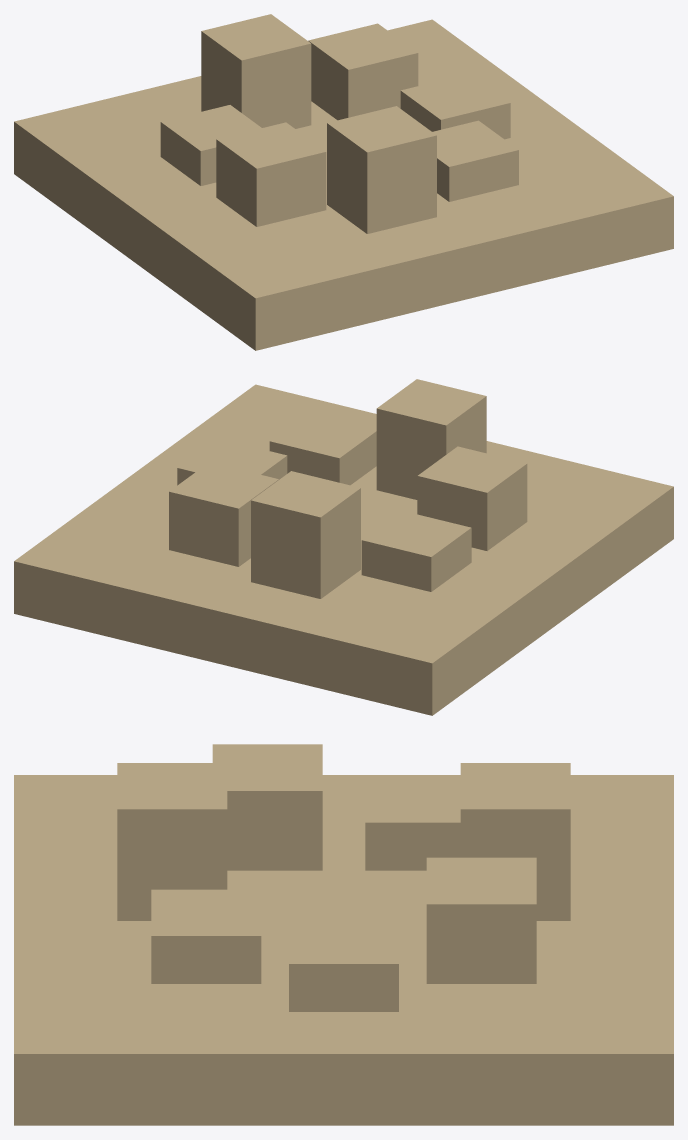
File: semi_desert.glb
3 renders of one model, top to bottom at view 1: azimuth 30°, elevation 25°; view 2: azimuth 150°, elevation 25°; view 3: azimuth 270°, elevation 25°, orthographic. The views are drawn at different scales.
Visible parts, largest first — view 1: semi_desert base, semi_desert relief.005, semi_desert relief.002, semi_desert relief.004, semi_desert relief.001, semi_desert relief.006, semi_desert relief, semi_desert relief.003; view 2: semi_desert base, semi_desert relief.002, semi_desert relief.005, semi_desert relief.004, semi_desert relief.001, semi_desert relief.003, semi_desert relief.006, semi_desert relief; view 3: semi_desert base, semi_desert relief.005, semi_desert relief.001, semi_desert relief.002, semi_desert relief.004, semi_desert relief.006, semi_desert relief, semi_desert relief.003.
Boxes of the visible parts, <box> form: semi_desert base: <box>14,19,673,350</box>; semi_desert relief.005: <box>327,106,436,233</box>; semi_desert relief.002: <box>201,14,311,128</box>; semi_desert relief.004: <box>216,122,326,226</box>; semi_desert relief.001: <box>308,23,418,120</box>; semi_desert relief.006: <box>432,120,518,201</box>; semi_desert relief: <box>400,73,510,139</box>; semi_desert relief.003: <box>160,105,261,185</box>; semi_desert base: <box>14,384,673,715</box>; semi_desert relief.002: <box>251,471,360,598</box>; semi_desert relief.005: <box>376,379,486,499</box>; semi_desert relief.004: <box>417,446,527,550</box>; semi_desert relief.001: <box>169,462,278,566</box>; semi_desert relief.003: <box>361,510,471,591</box>; semi_desert relief.006: <box>269,412,376,485</box>; semi_desert relief: <box>177,438,287,485</box>; semi_desert base: <box>14,775,673,1125</box>; semi_desert relief.005: <box>117,763,227,920</box>; semi_desert relief.001: <box>426,857,536,983</box>; semi_desert relief.002: <box>460,763,570,920</box>; semi_desert relief.004: <box>212,744,322,870</box>; semi_desert relief.006: <box>151,889,261,983</box>; semi_desert relief: <box>289,917,398,1011</box>; semi_desert relief.003: <box>365,776,460,870</box>.
Size of the model in its own units: 3 by 0.92 by 3.
